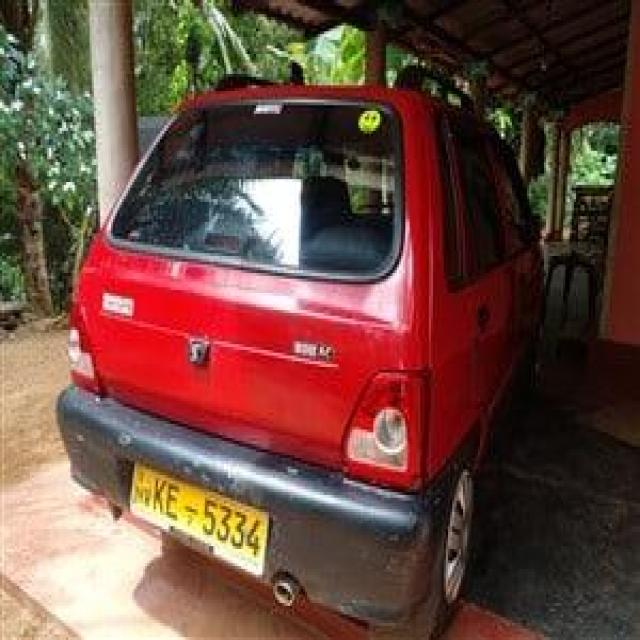license-plate: (128, 455, 262, 586)
